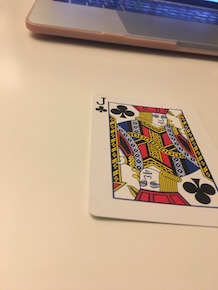JackOfClubs: (87, 90, 218, 229)
